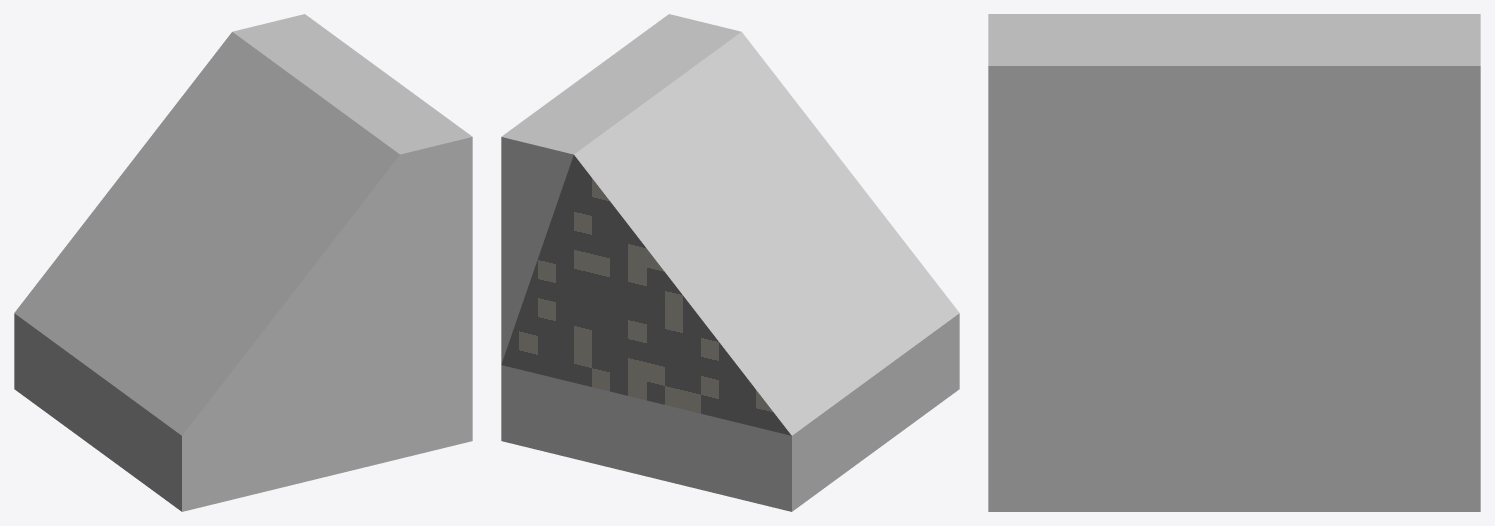
File: slope100_shave4_base4.obj
3 views of the same model, side by side, from view 1: azimuth 30°, elevation 25°; view 2: azimuth 150°, elevation 25°; view 3: azimuth 270°, elevation 25° (orthographic). The views are drawn at different scales.
Bounding box in the file's own units: 1 × 1 × 1.
